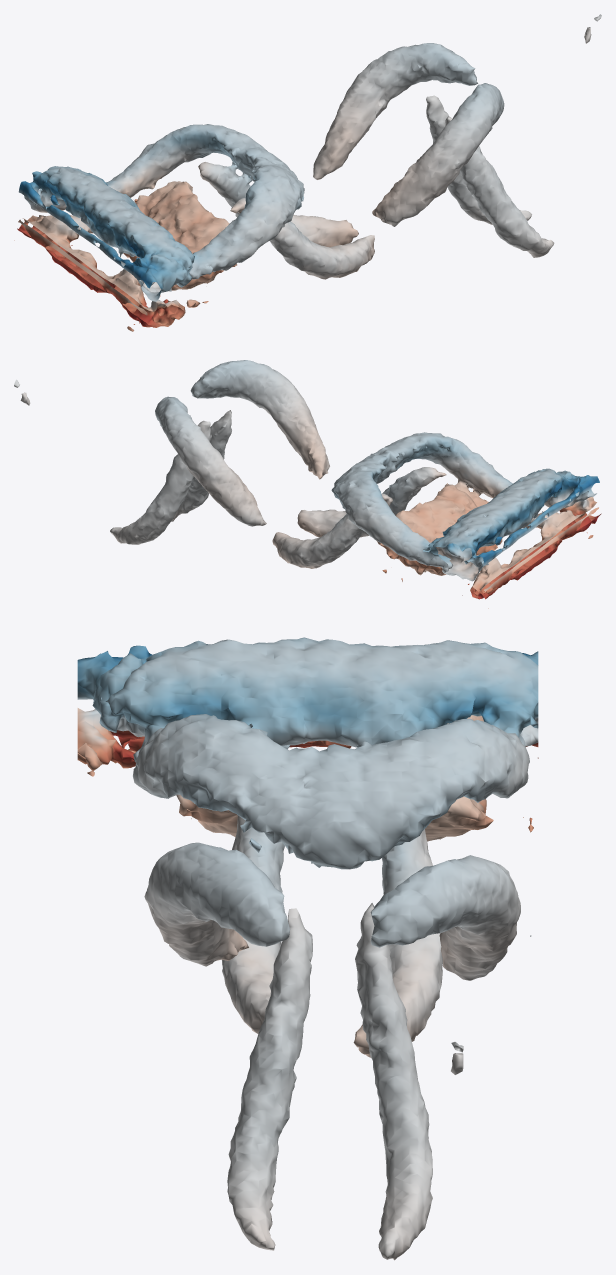
Rendered from q085-full.glb.
The picture shows the model from 3 angles, top to bottom: view 1: azimuth 30°, elevation 25°; view 2: azimuth 150°, elevation 25°; view 3: azimuth 270°, elevation 25°; orthographic projection. The views are drawn at different scales.
Size of the model in its own units: 6.31 by 2.06 by 2.54.
